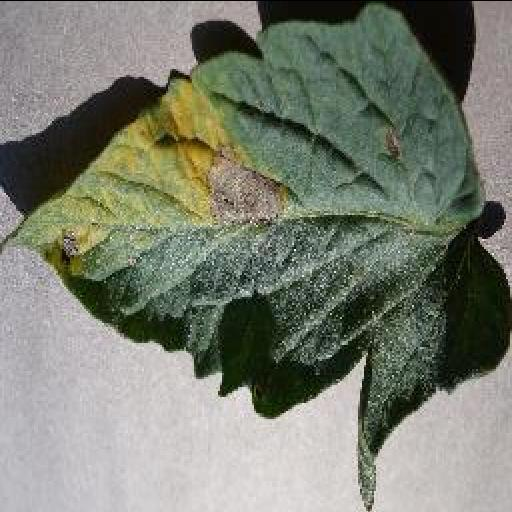disease_tomato: (2, 7, 512, 504)
